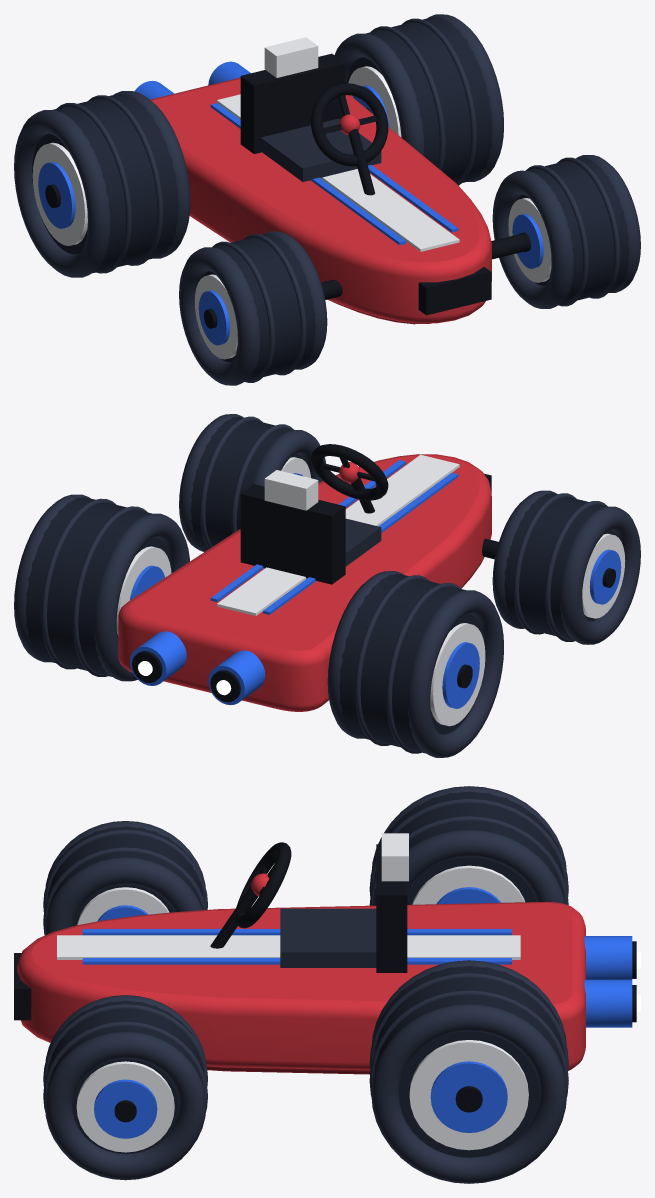
Rendered from kart.glb.
3 views of the same model, one above another, from view 1: azimuth 30°, elevation 25°; view 2: azimuth 150°, elevation 25°; view 3: azimuth 270°, elevation 25° (orthographic). The views are drawn at different scales.
Visible parts, largest first — view 1: Chassis, RearWheel_R, FrontWheel_R, RearWheel_L, FrontWheel_L, Seat, SteeringWheel, AxleStubs; view 2: Chassis, RearWheel_R, RearWheel_L, FrontWheel_R, FrontWheel_L, Seat, SteeringWheel; view 3: Chassis, RearWheel_L, FrontWheel_L, RearWheel_R, FrontWheel_R, Seat, SteeringWheel.
Boxes of the visible parts, left/top/right/bottom form: Chassis: left=134, top=61, right=491, bottom=324; RearWheel_R: left=14, top=91, right=190, bottom=277; FrontWheel_R: left=179, top=231, right=327, bottom=385; RearWheel_L: left=334, top=14, right=503, bottom=185; FrontWheel_L: left=492, top=155, right=640, bottom=308; Seat: left=240, top=37, right=381, bottom=181; SteeringWheel: left=311, top=83, right=388, bottom=195; AxleStubs: left=321, top=234, right=526, bottom=299; Chassis: left=118, top=454, right=491, bottom=711; RearWheel_R: left=327, top=571, right=503, bottom=757; RearWheel_L: left=14, top=494, right=189, bottom=681; FrontWheel_R: left=492, top=490, right=640, bottom=644; FrontWheel_L: left=179, top=414, right=325, bottom=551; Seat: left=240, top=470, right=381, bottom=584; SteeringWheel: left=311, top=444, right=388, bottom=513; Chassis: left=14, top=901, right=640, bottom=1074; RearWheel_L: left=369, top=960, right=568, bottom=1183; FrontWheel_L: left=43, top=995, right=207, bottom=1180; RearWheel_R: left=369, top=786, right=568, bottom=905; FrontWheel_R: left=43, top=821, right=207, bottom=935; Seat: left=280, top=833, right=408, bottom=972; SteeringWheel: left=210, top=842, right=291, bottom=948.
Bounding box in the file's own units: 3.18 × 1.48 × 3.65.
